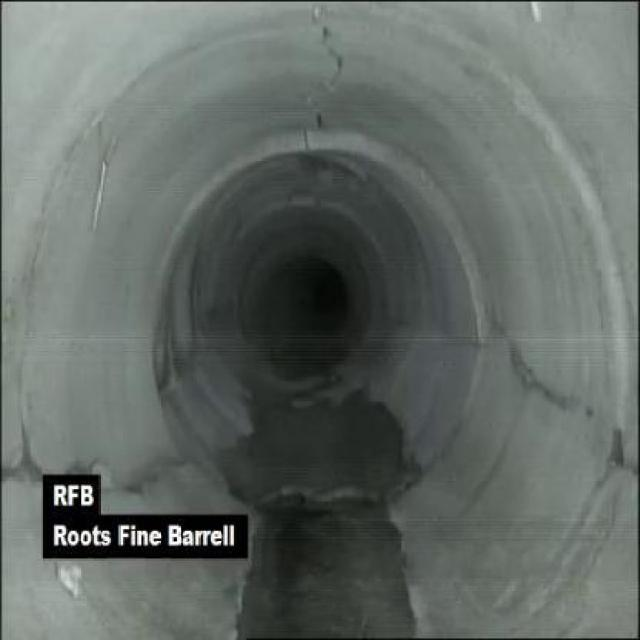Crack: (299, 3, 363, 115), (508, 335, 572, 414), (103, 460, 179, 502), (86, 138, 117, 235)
Joint offset: (412, 149, 488, 306), (208, 129, 290, 185)
